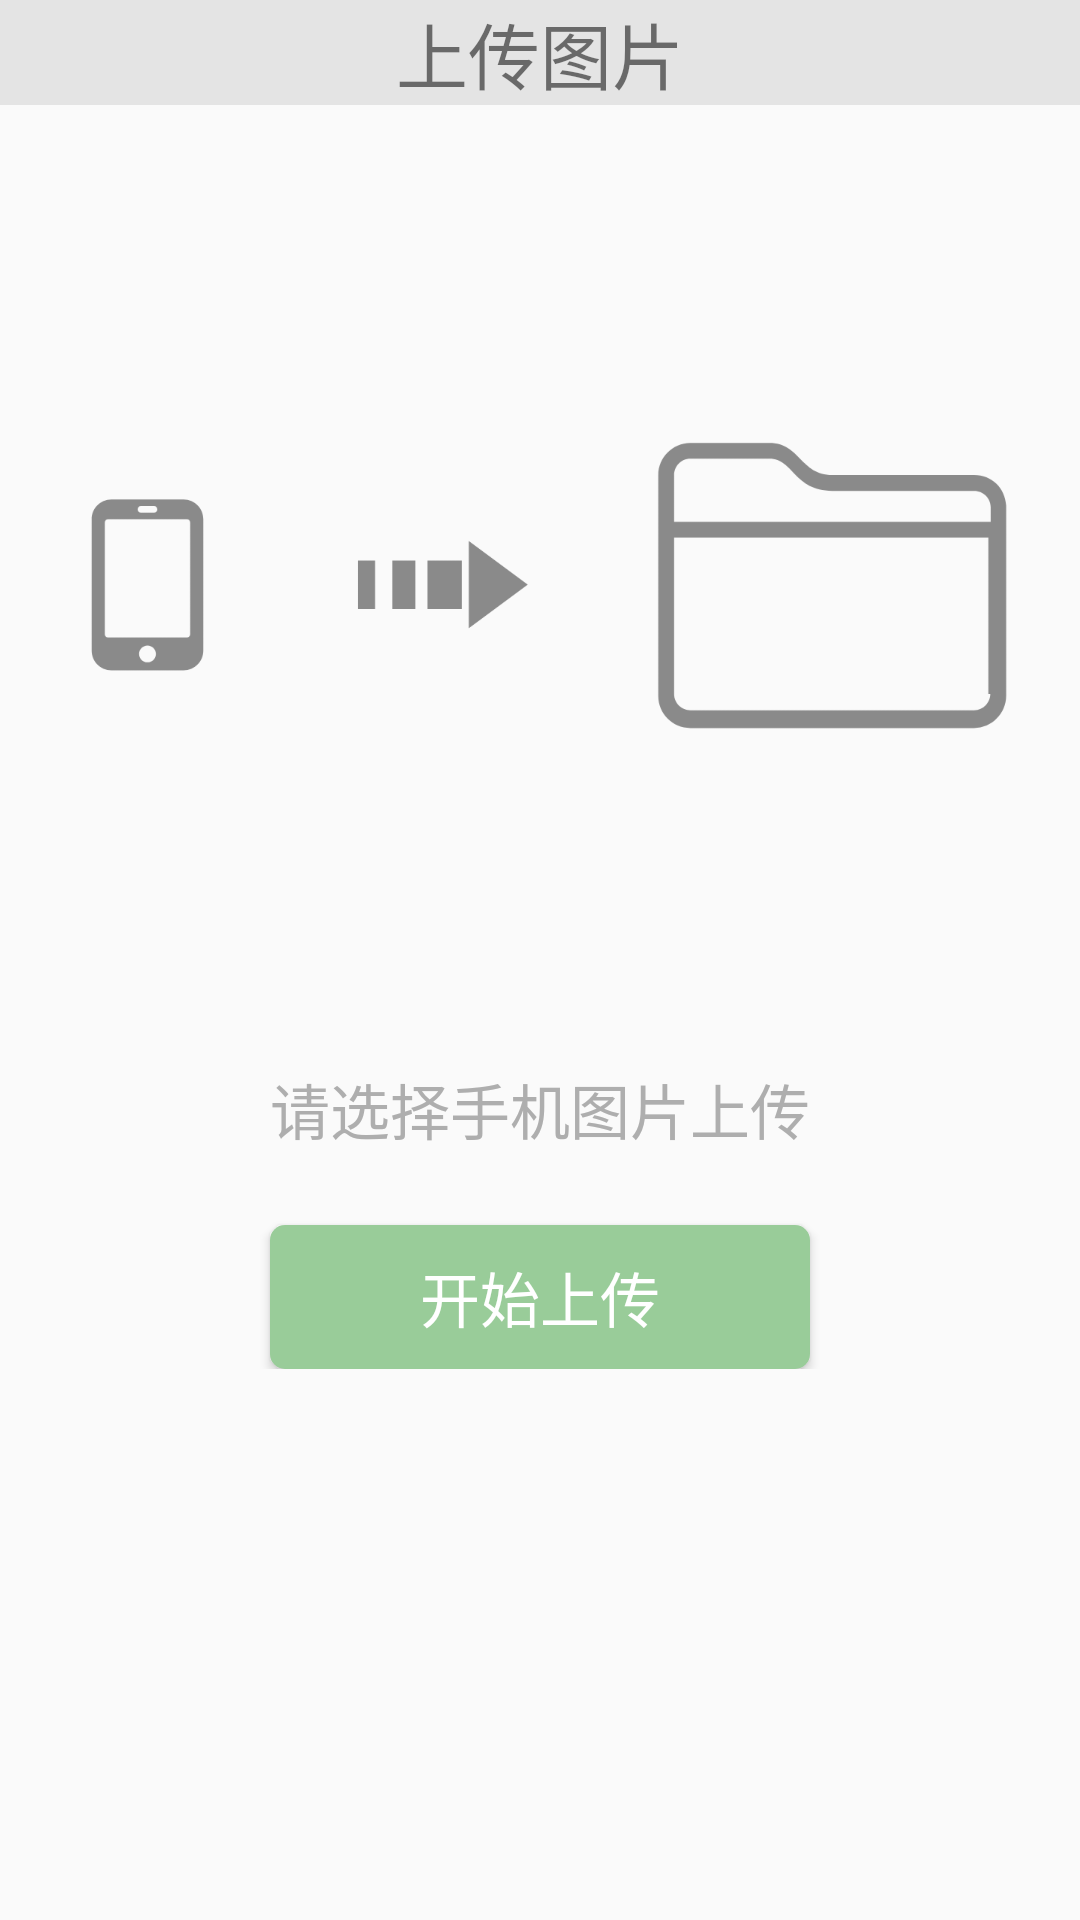

Point at icon controls on the screen. Image size 1080w x 1920h, points as (x,y).
file: (832,586)
phone: (147,585)
transmission: (443,584)
